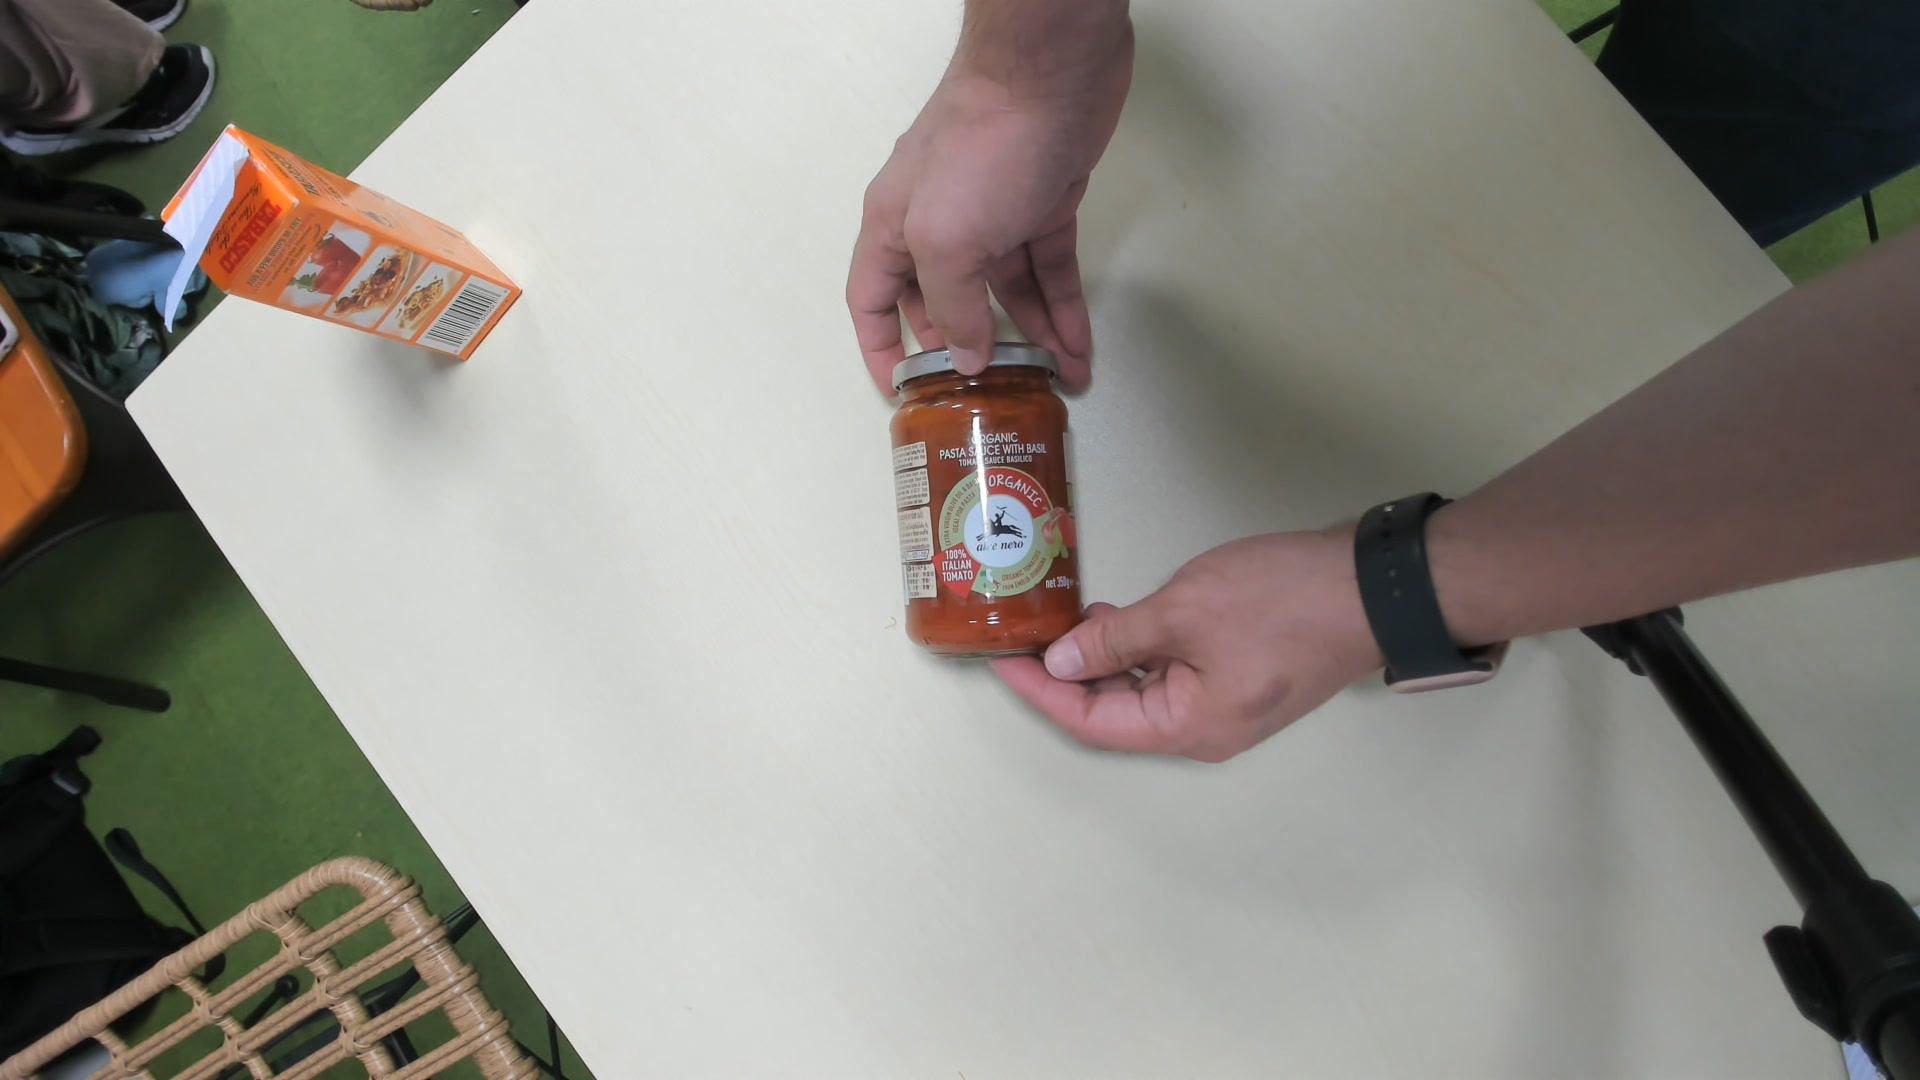PastaSauce_300-399g_NonHalal_NonHealthy: (886, 342, 1087, 655)
